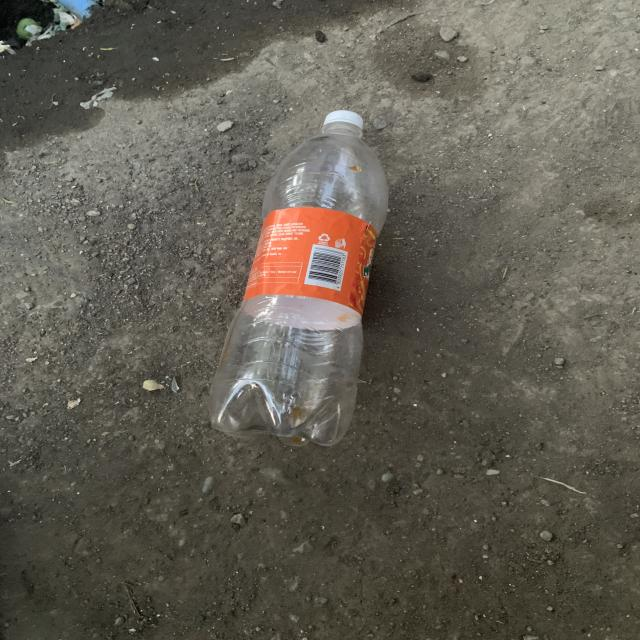Bottle: (209, 111, 388, 446)
